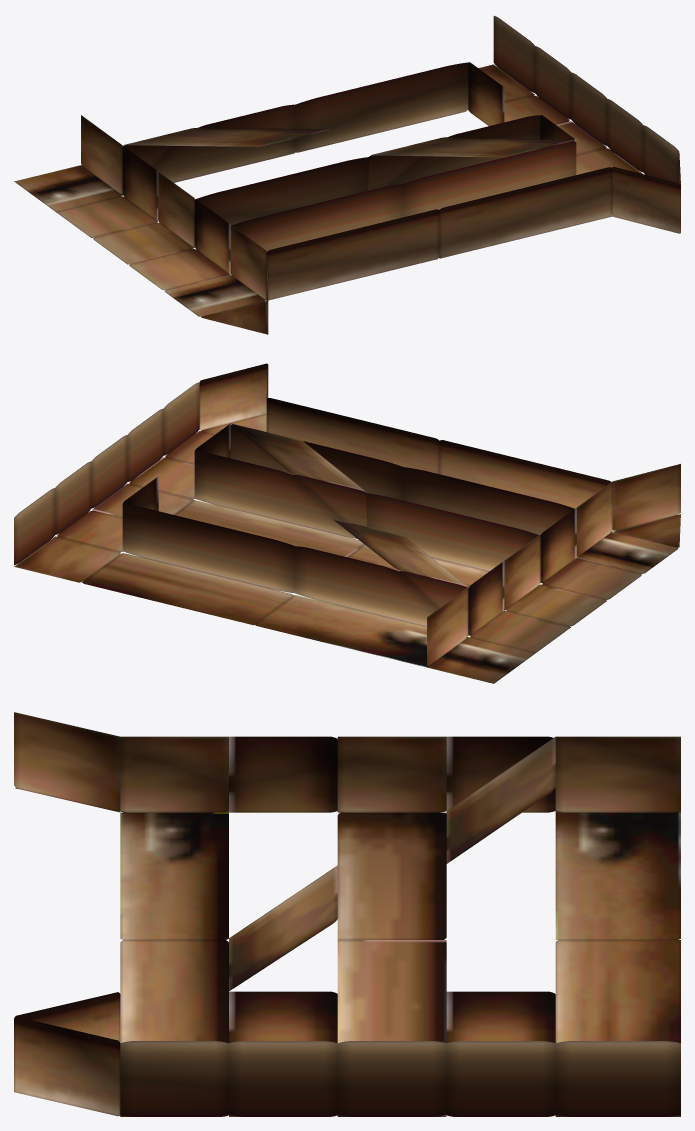
3 renders of one model, top to bottom at view 1: azimuth 30°, elevation 25°; view 2: azimuth 150°, elevation 25°; view 3: azimuth 270°, elevation 25°, orthographic. The views are drawn at different scales.
Parts seen in each view (by area): view 1: T1L2M007_15; view 2: T1L2M007_15; view 3: T1L2M007_15.
Boxes of the visible parts, <box> form: T1L2M007_15: <box>14,16,680,334</box>; T1L2M007_15: <box>14,363,680,683</box>; T1L2M007_15: <box>14,712,680,1116</box>.
Bounding box in the file's own units: 2 × 0.2002 × 1.59.
Materials: 1 (1 with a texture image).
